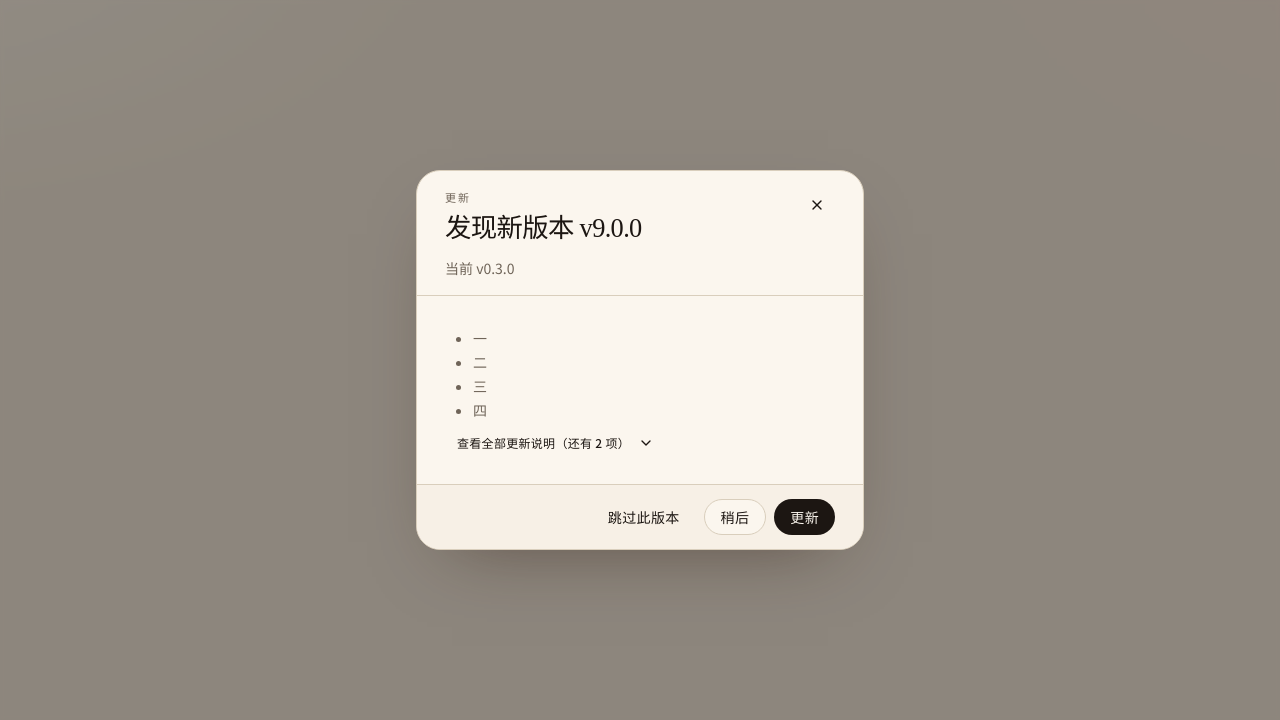
Test: UpdatePrompt 更新说明 › 长说明先预览，点开后能在弹窗里看完
This screenshot has width=1280, height=720.
Check: the list item "一" is shown, box [473, 328, 487, 348]
Check: the list item "四" is shown, box [473, 400, 487, 420]
Click the button "查看全部更新说明（还有 2 项）" at (556, 443), box [453, 435, 658, 451]
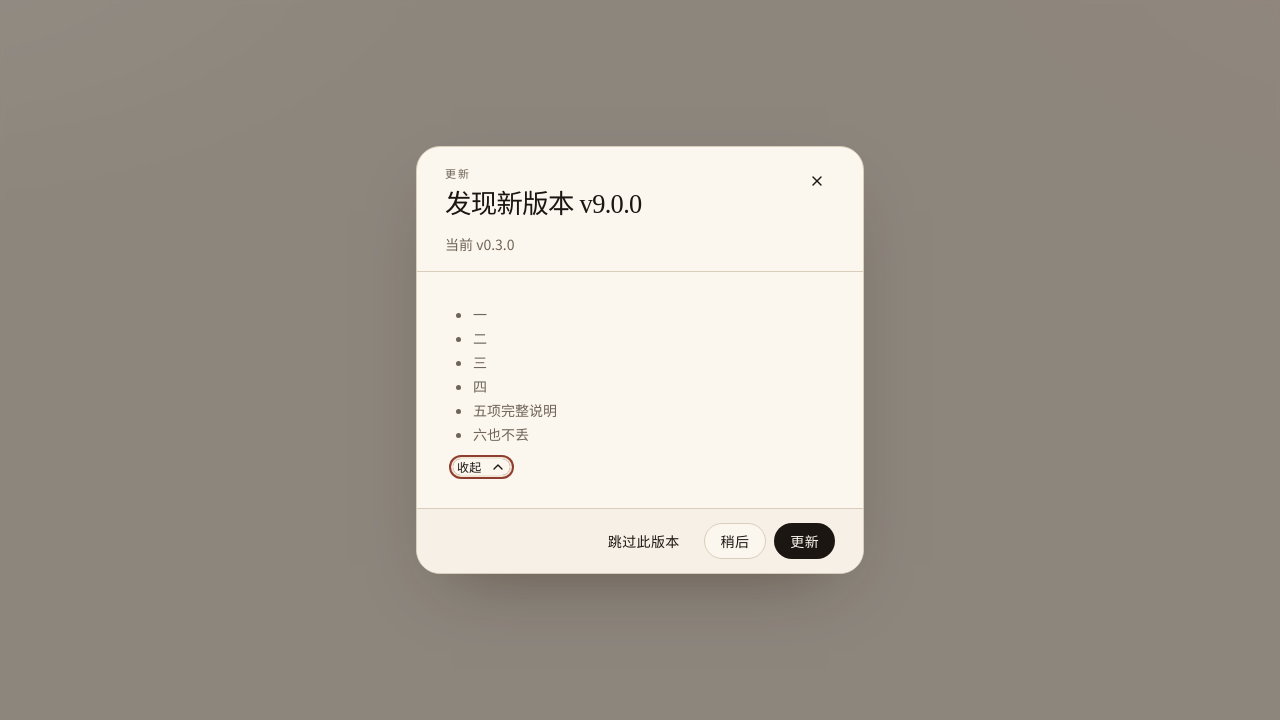
Check: the list item "五项完整说明" is shown, box [473, 400, 557, 420]
Check: the list item "六也不丢" is shown, box [473, 424, 529, 444]
Click the button "收起" at (481, 467), box [453, 459, 510, 475]
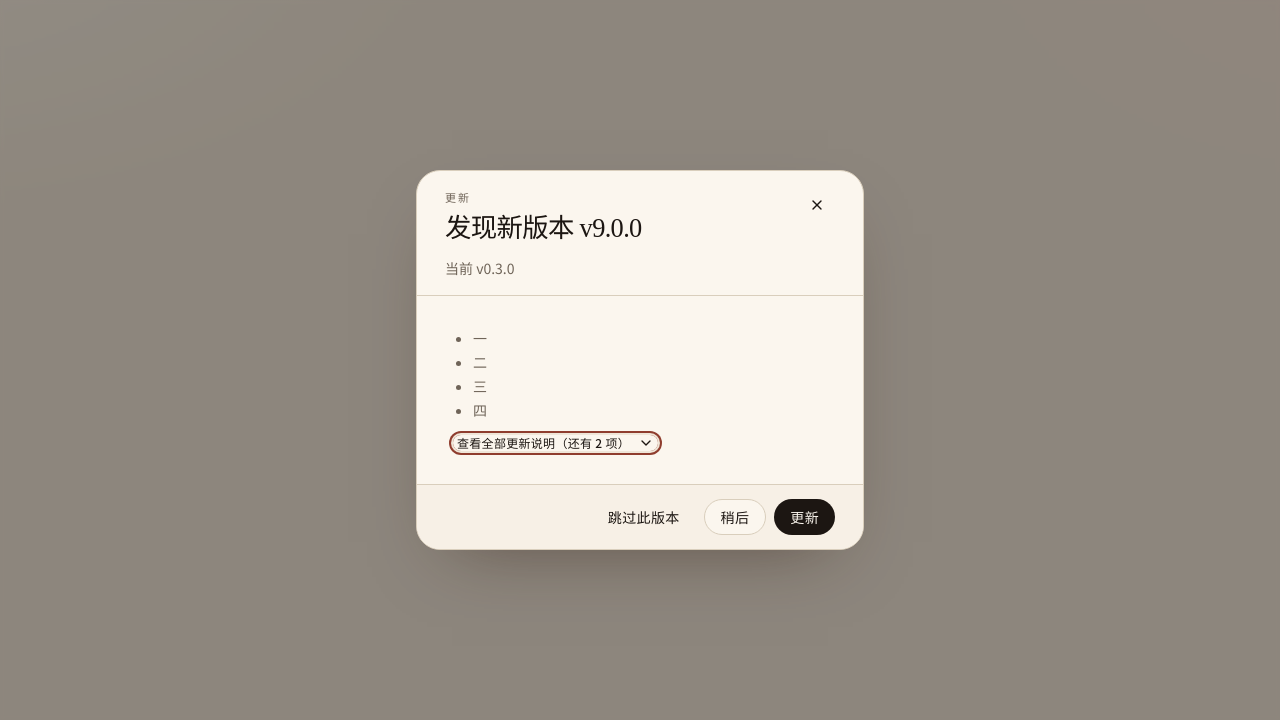
Check: the list item "一" is shown, box [473, 328, 487, 348]
Check: the list item "五项完整说明" is gone
